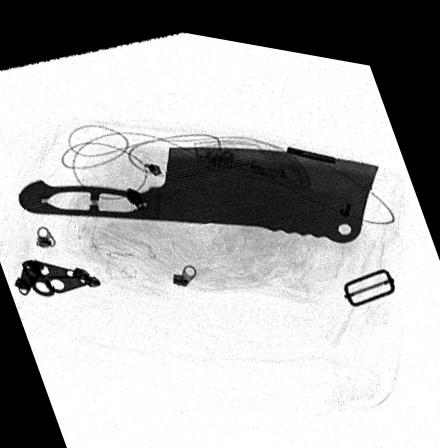Knife: (15, 137, 378, 232)
